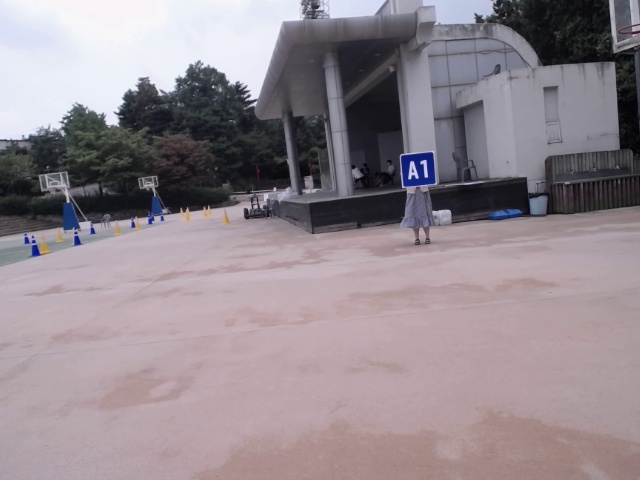delivery_a1: (400, 152, 437, 187)
